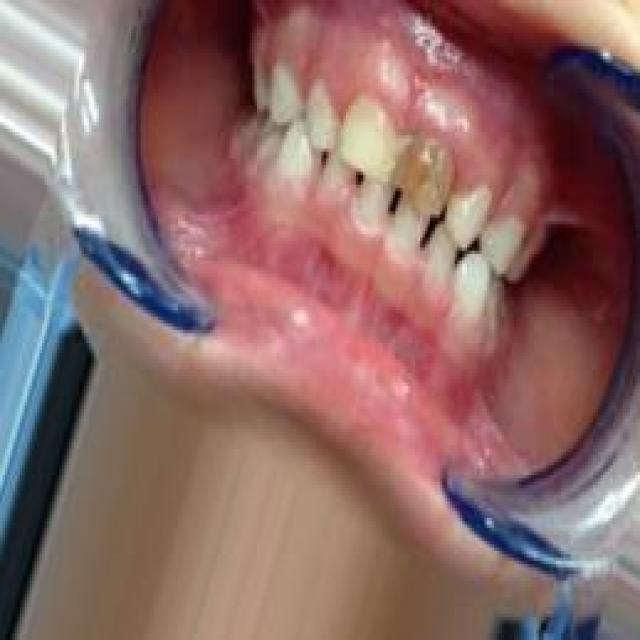caries: (394, 129, 454, 219)
